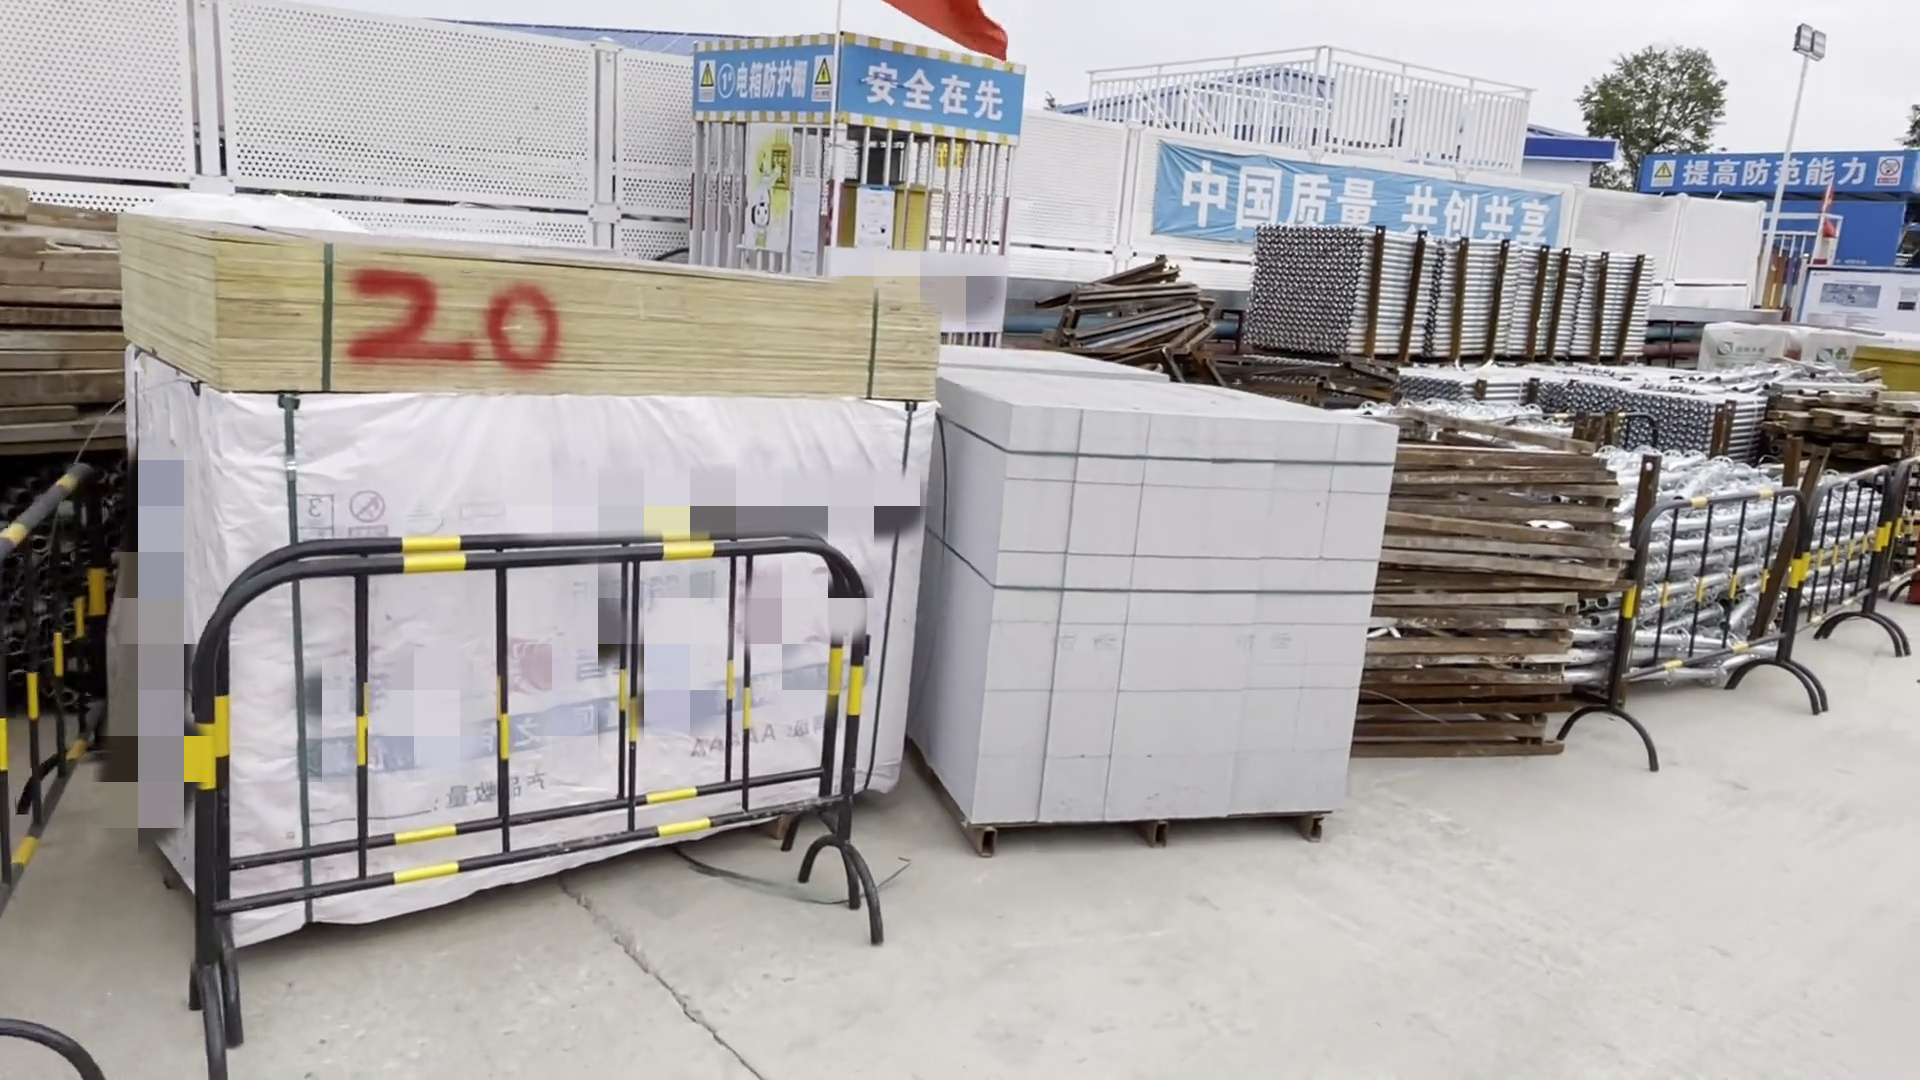brick: (932, 364, 1406, 877)
scaffold: (1251, 231, 1667, 375)
slogan: (1158, 142, 1567, 264), (698, 40, 1019, 144), (1644, 142, 1905, 208)
